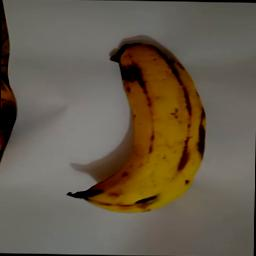Banana Unripe: (62, 40, 211, 216)
